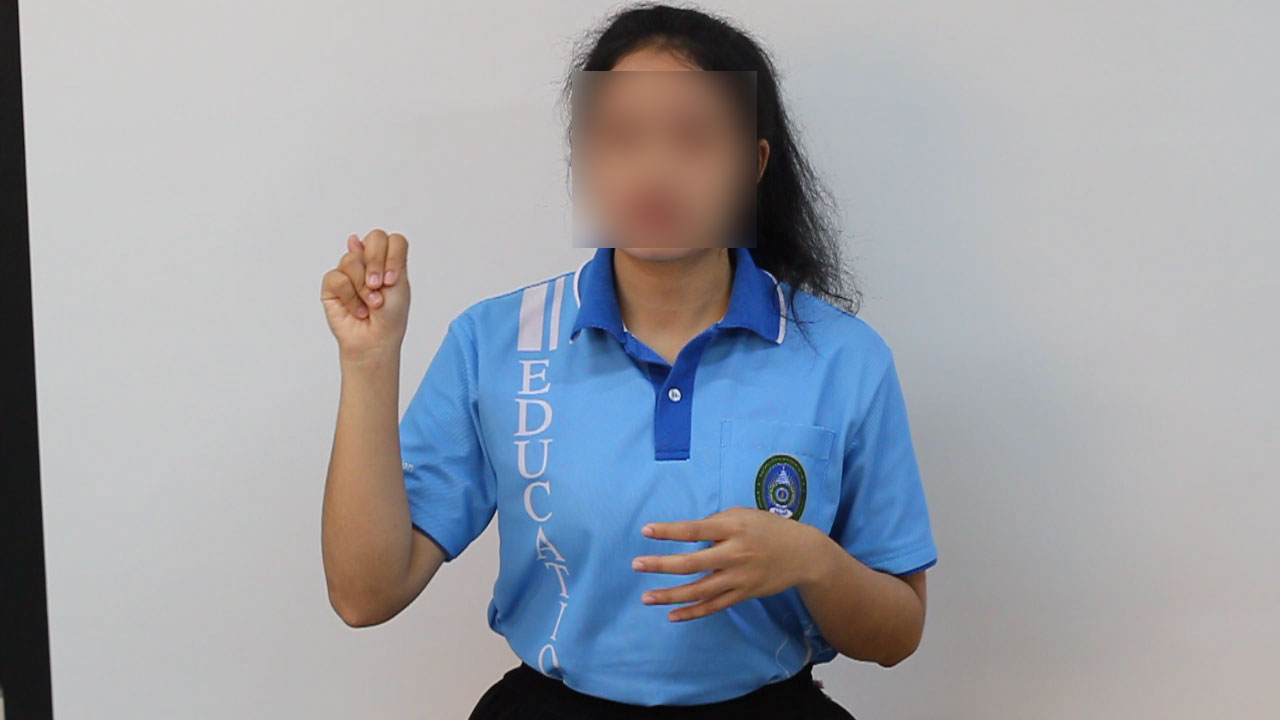nor: (314, 218, 427, 376)
